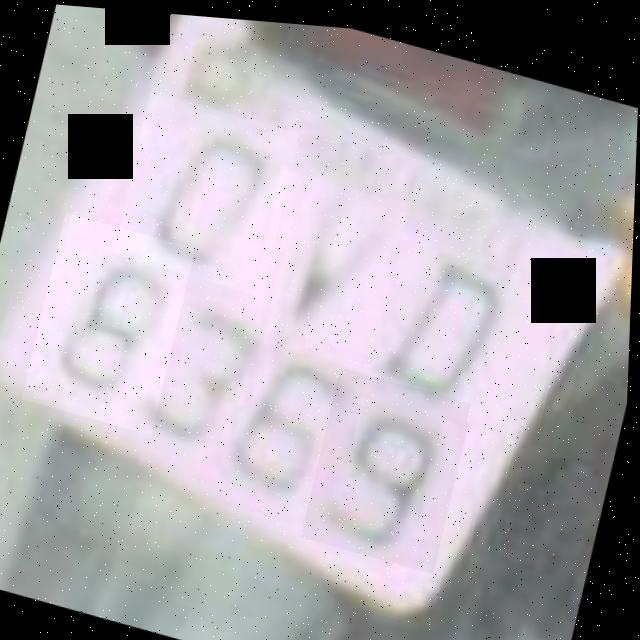3: (98, 253, 297, 480)
6: (197, 312, 376, 530)
9: (304, 359, 477, 569)
B: (24, 209, 197, 435)
N: (246, 163, 410, 368)
O: (114, 88, 302, 293), (369, 208, 528, 422)
